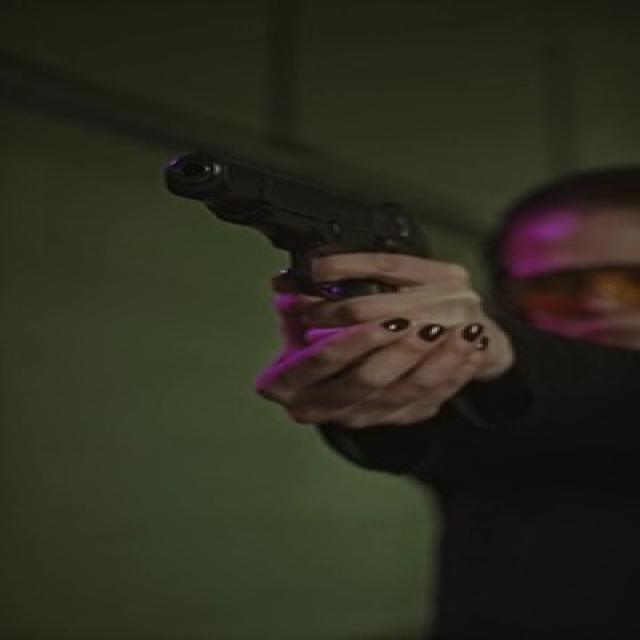Gun_Holder: (110, 134, 555, 453)
Person: (282, 120, 640, 640)
